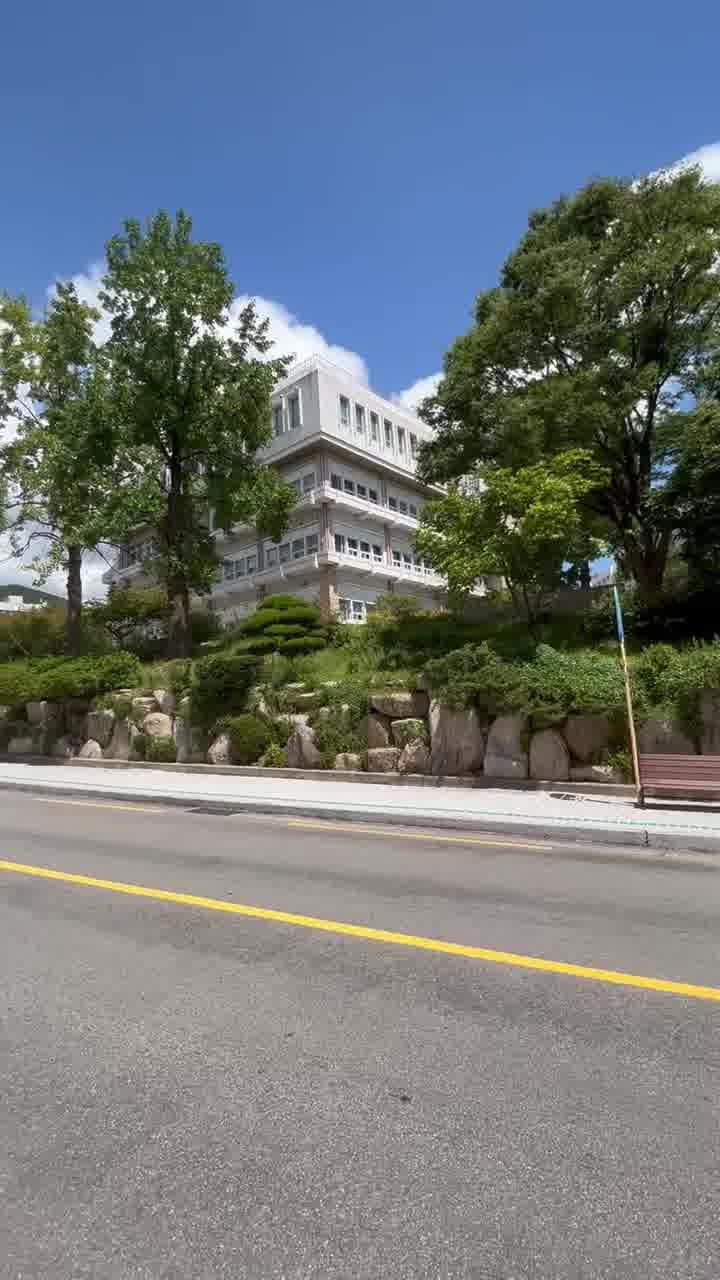building: (288, 368, 410, 580)
